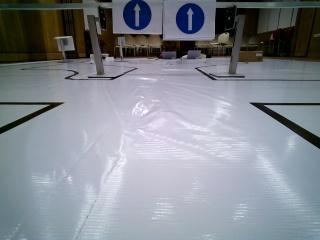straight: (165, 0, 215, 42), (109, 0, 163, 35)
